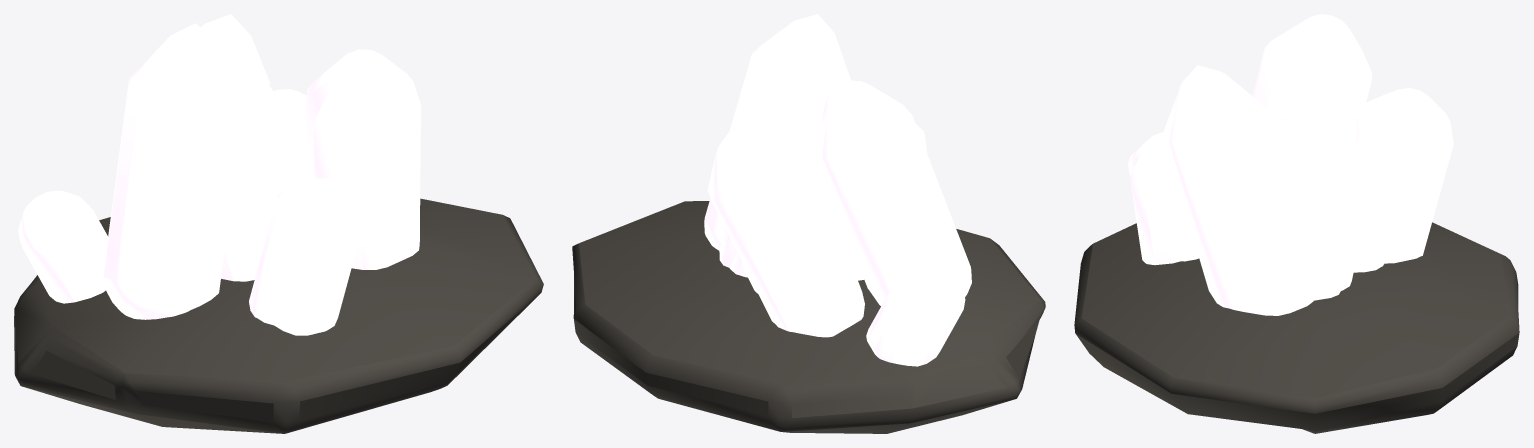
Rendered from schmutz_kristall_2.fbx.
3 views of the same model, side by side, from view 1: azimuth 30°, elevation 25°; view 2: azimuth 150°, elevation 25°; view 3: azimuth 270°, elevation 25° (orthographic). The views are drawn at different scales.
Parts seen in each view (by area): view 1: schmutz_kristall_2_Koerper; view 2: schmutz_kristall_2_Koerper; view 3: schmutz_kristall_2_Koerper.
Boxes of the visible parts, x1,y1,x2,y2 form: schmutz_kristall_2_Koerper: (14,14,543,433); schmutz_kristall_2_Koerper: (572,14,1045,433); schmutz_kristall_2_Koerper: (1074,14,1519,433).
Bounding box in the file's own units: 1.01 × 0.6938 × 0.838.
